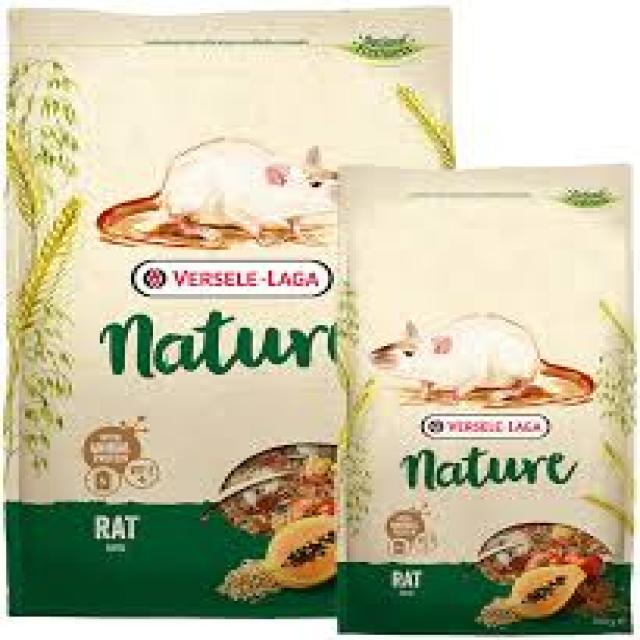rat: (144, 133, 340, 245), (368, 310, 594, 403)
